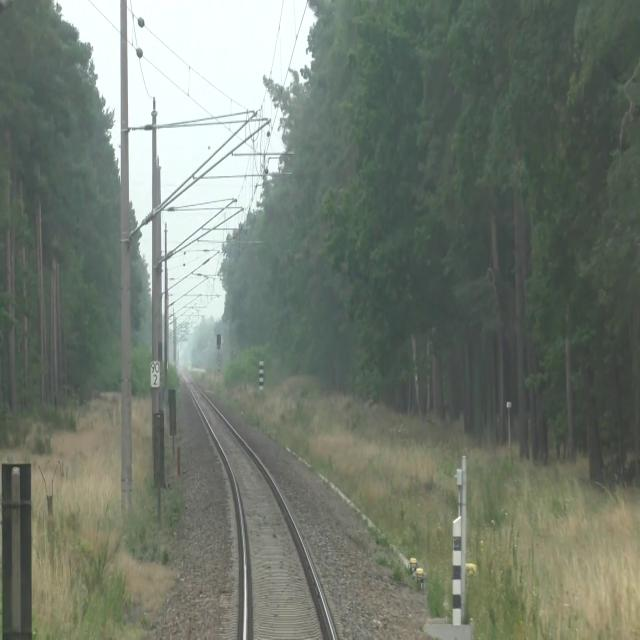rail-track: (188, 380, 331, 639)
